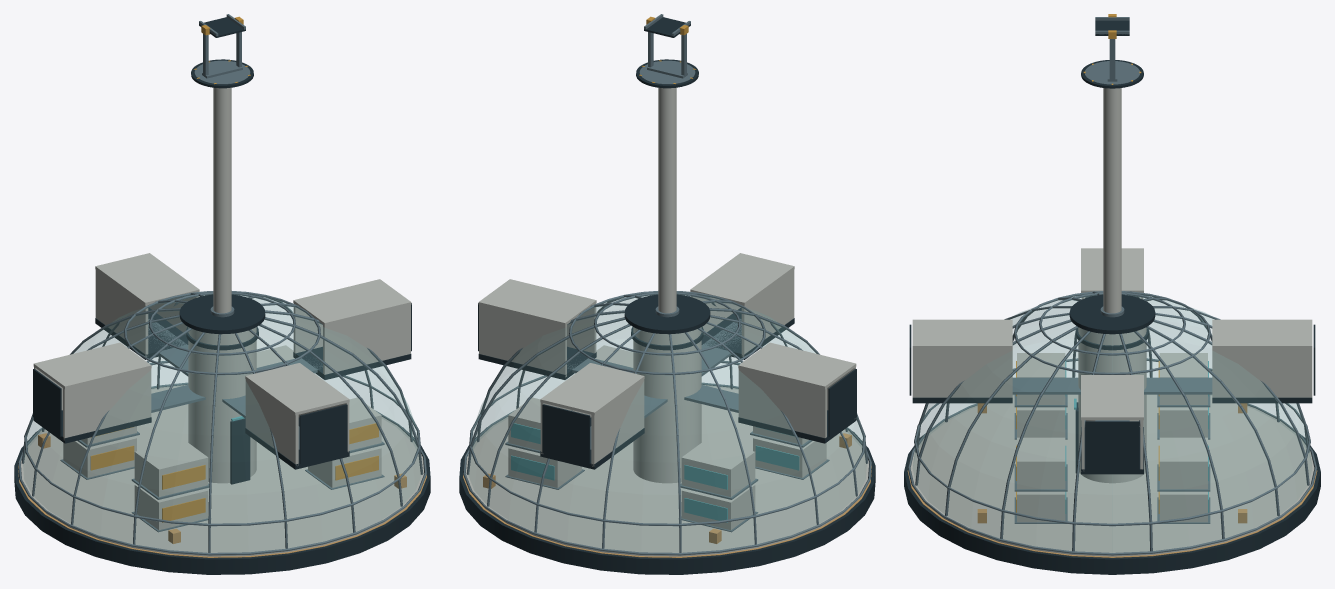
The model's file is habitat_d0_lod1.glb.
The picture shows the model from 3 angles, left to right: view 1: azimuth 30°, elevation 25°; view 2: azimuth 150°, elevation 25°; view 3: azimuth 270°, elevation 25°; orthographic projection.
Visible parts, largest first — view 1: BODY, SHELL, PORT_CAP_N, PORT_CAP_W, FORK, CRADLE; view 2: BODY, SHELL, PORT_CAP_S, PORT_CAP_W, FORK, CRADLE; view 3: BODY, SHELL, PORT_CAP_E, CRADLE.
Part boxes in pixels (x1,y1,x2,y2): BODY: (14,59,430,574); SHELL: (23,295,421,552); PORT_CAP_N: (299,404,347,463); PORT_CAP_W: (33,369,61,436); FORK: (201,16,243,78); CRADLE: (199,14,245,37); BODY: (459,59,875,574); SHELL: (468,295,866,552); PORT_CAP_S: (542,404,590,463); PORT_CAP_W: (828,369,856,436); FORK: (646,16,688,78); CRADLE: (644,14,690,37); BODY: (904,60,1320,574); SHELL: (913,295,1311,552); PORT_CAP_E: (1085,421,1139,469); CRADLE: (1095,17,1129,35).
Size of the model in its own units: 29.2 by 35.85 by 29.2.
